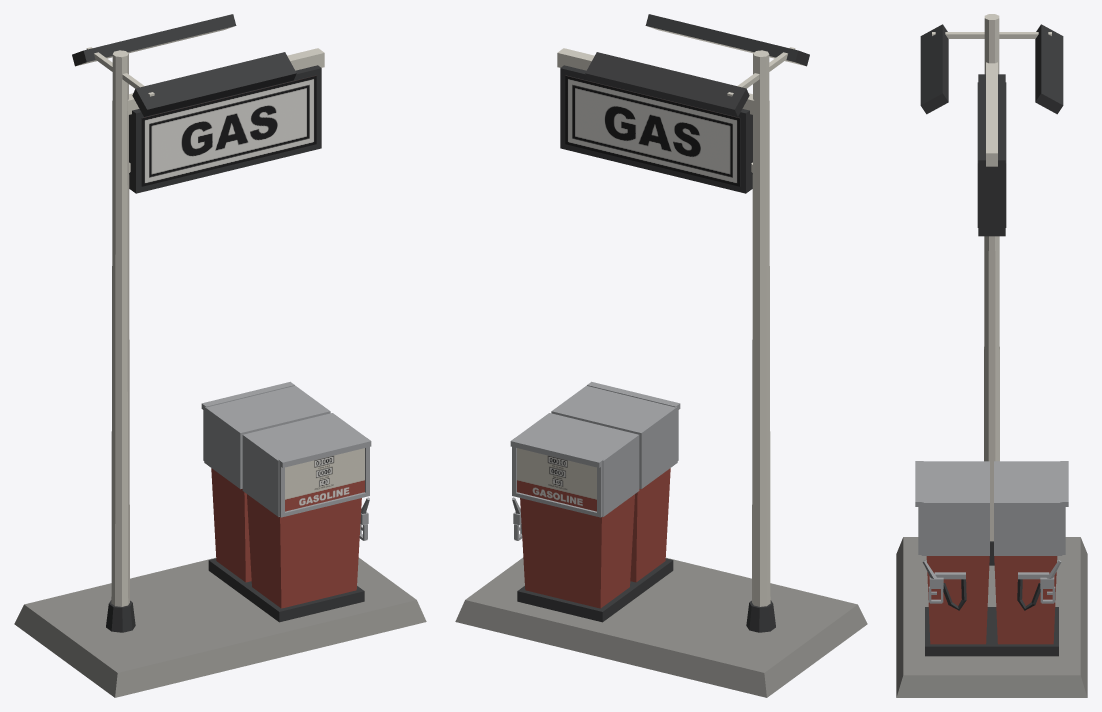
File: gas-pump.glb
The picture shows the model from 3 angles, left to right: view 1: azimuth 30°, elevation 25°; view 2: azimuth 150°, elevation 25°; view 3: azimuth 270°, elevation 25°; orthographic projection. The views are drawn at different scales.
Visible parts, largest first — view 1: GasPump; view 2: GasPump; view 3: GasPump.
Part boxes in pixels (x1,y1,x2,y2): GasPump: [14, 14, 426, 697]; GasPump: [455, 14, 867, 697]; GasPump: [896, 14, 1087, 697].
Size of the model in its own units: 2.5 by 4.55 by 1.4.
6 materials, 1 textured.
